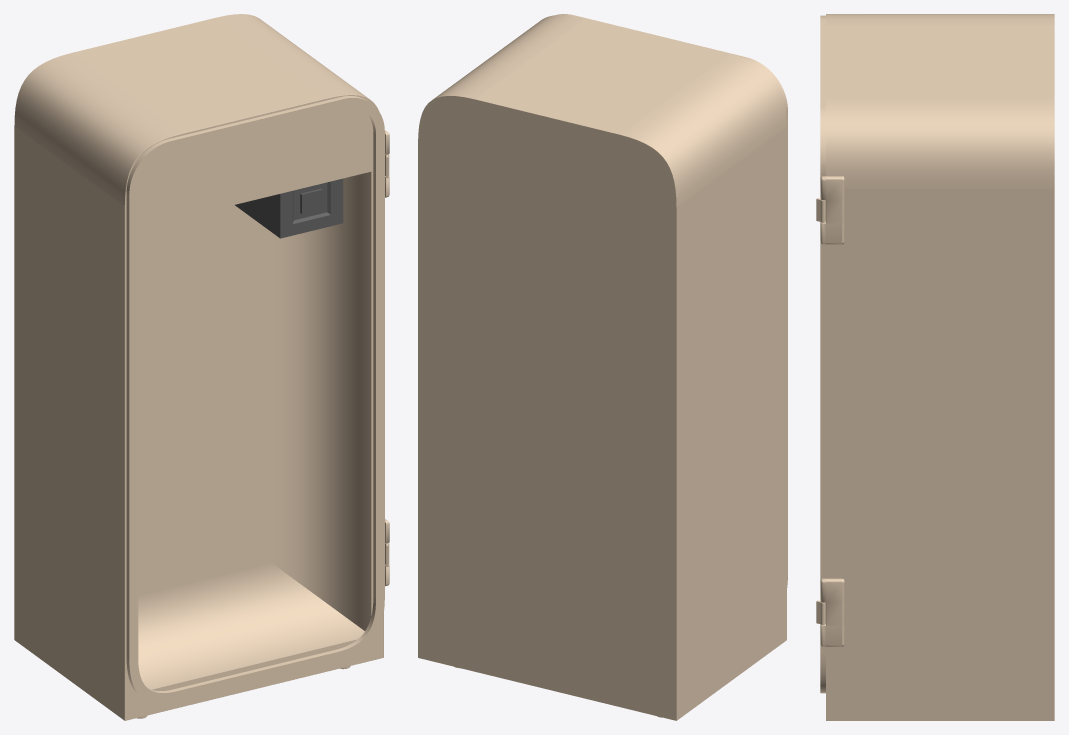
Rendered from FridgeInterior.FBX.
3 renders of one model, left to right at view 1: azimuth 30°, elevation 25°; view 2: azimuth 150°, elevation 25°; view 3: azimuth 270°, elevation 25°, orthographic. The views are drawn at different scales.
Visible parts, largest first — view 1: Group03; view 2: Group03; view 3: Group03.
Boxes of the visible parts, x1,y1,x2,y2 form: Group03: (14,14,389,720); Group03: (418,14,787,720); Group03: (816,14,1054,720).
Size of the model in its own units: 6.96 by 14.78 by 5.28.
